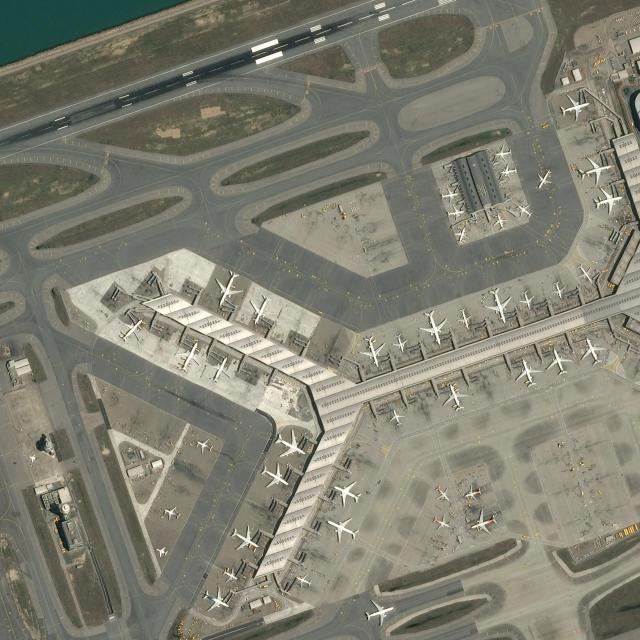aircraft: (479, 284, 512, 322), (212, 267, 244, 306), (575, 153, 613, 185), (416, 309, 448, 345), (214, 269, 244, 307), (272, 426, 307, 458), (482, 287, 512, 323), (418, 309, 447, 345), (556, 91, 590, 121), (173, 338, 201, 374), (273, 428, 306, 458), (577, 156, 613, 183), (591, 185, 623, 215), (356, 334, 386, 366), (362, 597, 394, 627), (513, 357, 543, 388), (257, 461, 290, 489), (247, 292, 274, 326), (325, 515, 359, 542), (543, 346, 573, 376), (440, 382, 471, 411), (228, 524, 260, 552), (330, 478, 362, 506), (174, 340, 201, 373), (325, 516, 359, 542), (363, 599, 394, 627), (558, 94, 590, 121), (578, 334, 606, 364), (200, 584, 230, 612), (468, 507, 498, 535), (592, 187, 623, 214), (248, 292, 274, 324), (358, 334, 384, 366), (229, 524, 259, 551), (332, 479, 362, 506), (514, 357, 541, 387), (442, 382, 469, 412), (115, 316, 144, 343), (260, 462, 289, 489), (580, 336, 606, 366), (201, 586, 229, 612), (546, 348, 572, 376), (206, 354, 231, 383), (117, 317, 144, 343), (470, 509, 497, 535), (207, 355, 231, 384), (388, 331, 409, 356), (454, 306, 475, 330), (492, 142, 514, 162), (575, 262, 595, 284), (533, 167, 552, 190), (216, 565, 240, 583), (462, 482, 483, 502), (386, 406, 406, 426), (535, 167, 553, 189), (576, 262, 594, 284), (517, 289, 536, 309), (430, 512, 451, 530), (548, 279, 567, 298), (432, 482, 450, 502), (438, 185, 459, 202), (496, 162, 518, 178), (159, 504, 181, 520), (456, 307, 472, 329), (513, 202, 534, 218), (444, 204, 465, 220), (518, 289, 534, 310), (490, 212, 508, 230), (452, 224, 469, 243), (463, 484, 482, 501), (194, 438, 214, 454), (431, 514, 451, 530), (392, 332, 408, 352), (440, 186, 460, 202), (433, 484, 450, 502), (194, 437, 213, 453), (162, 505, 181, 521), (493, 145, 512, 161), (220, 566, 238, 582), (388, 408, 404, 426), (550, 280, 566, 298), (453, 226, 469, 244), (492, 213, 508, 231), (446, 205, 465, 220), (293, 573, 313, 587), (498, 164, 518, 178), (537, 168, 551, 188), (516, 202, 532, 218), (295, 574, 312, 588), (153, 544, 169, 557), (154, 545, 168, 557), (28, 453, 38, 462)
